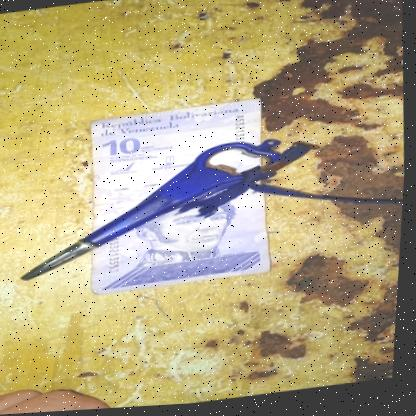ten-front-vef: (84, 100, 285, 297)
